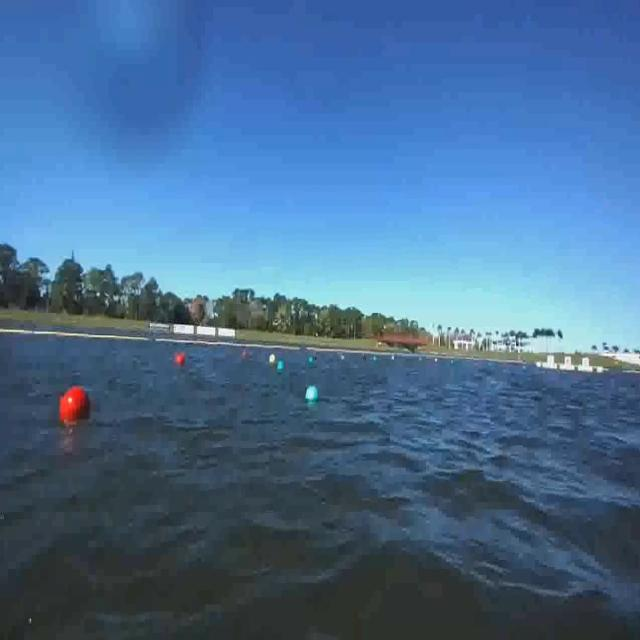green-buoy: (307, 385, 319, 403), (276, 360, 287, 372)
red-buoy: (61, 387, 94, 426), (176, 352, 185, 366)
